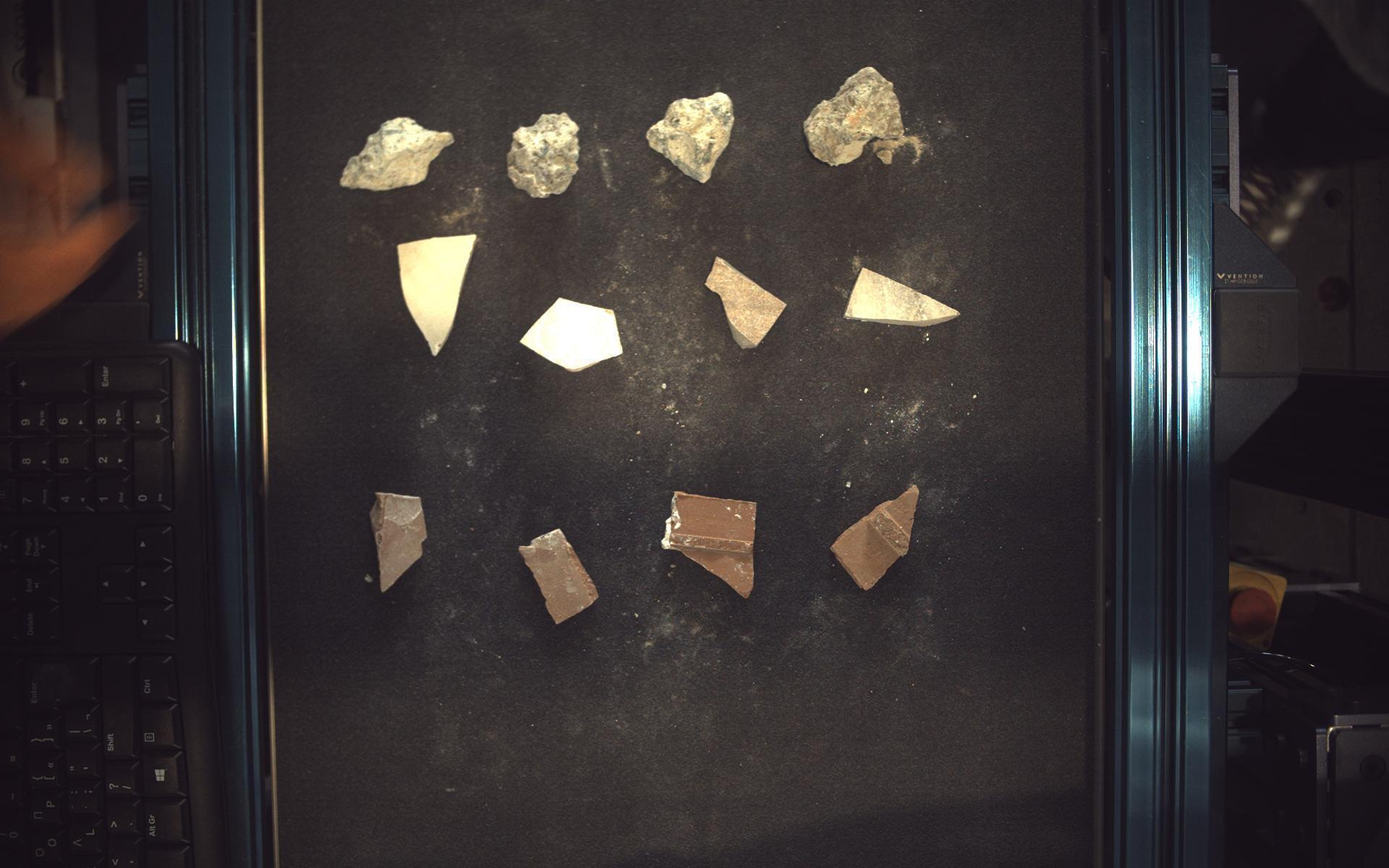brick: (663, 492, 757, 599), (833, 485, 921, 591), (519, 529, 599, 625), (370, 493, 427, 593)
concrete: (805, 65, 906, 165), (339, 116, 453, 190), (647, 90, 735, 182), (507, 112, 579, 197)
tile: (397, 234, 477, 355), (521, 297, 624, 372), (706, 257, 787, 349), (846, 268, 961, 326)
